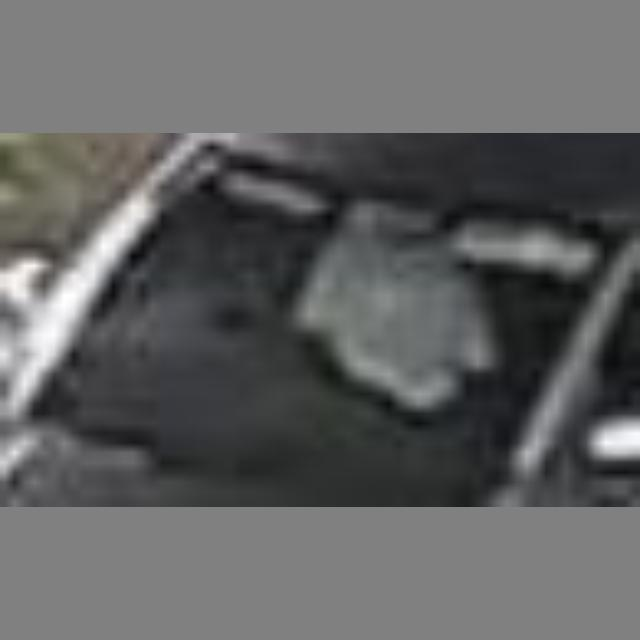tidak-pakai: (266, 182, 502, 409)
